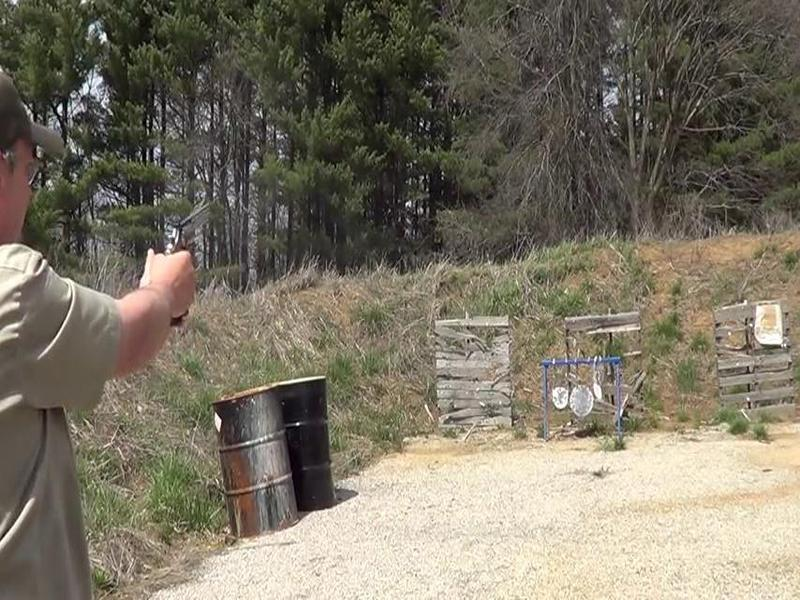Revolver: (155, 193, 225, 281)
